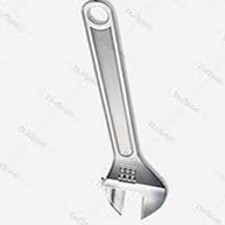wrench: (73, 2, 172, 220)
